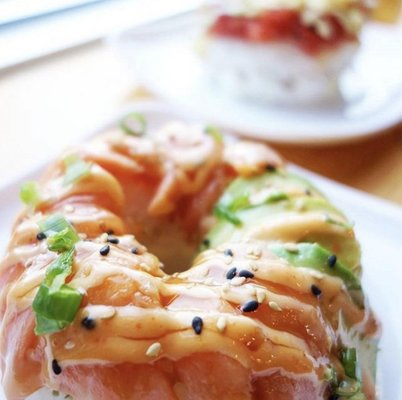sandwich: (0, 103, 378, 395)
